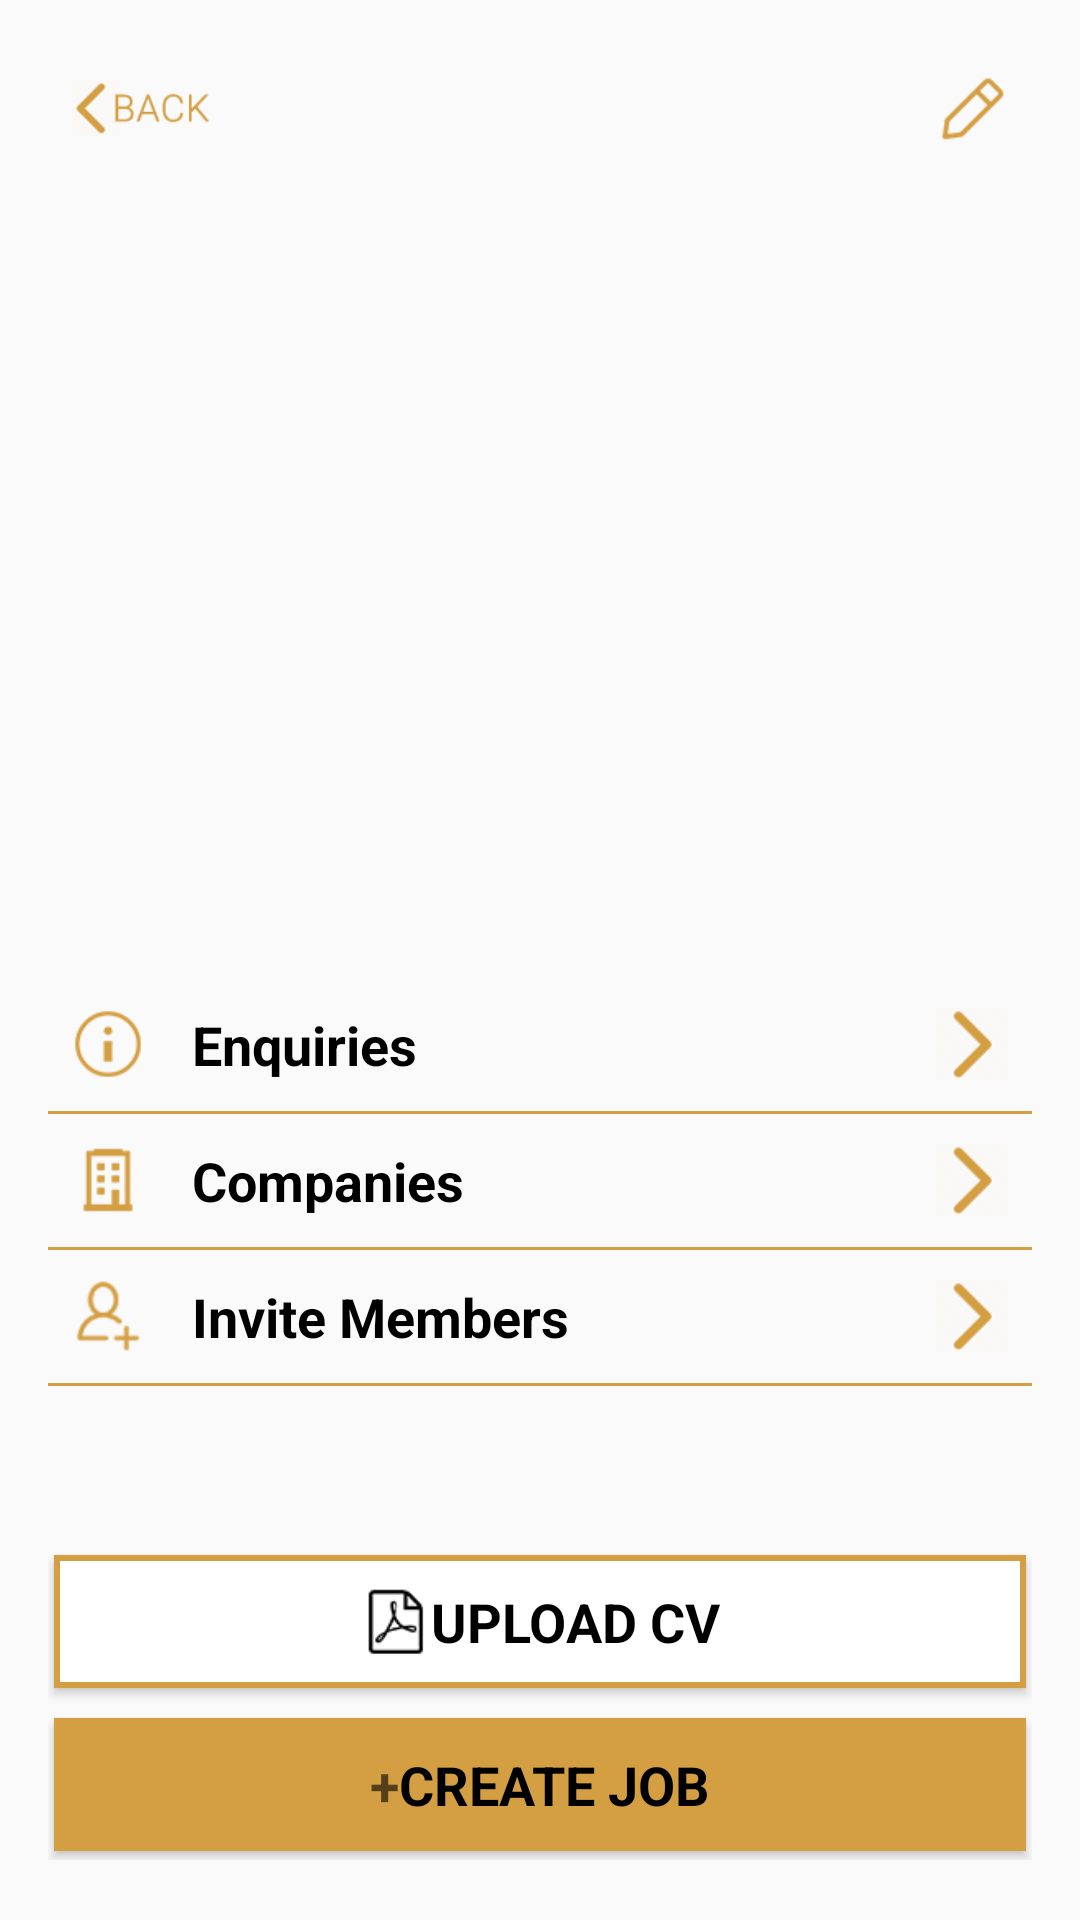

Locate icon controls on the screen. Image size 1080x1920, boxes as BBox(x1, y1, x2, y2).
company: BBox(83, 1148, 133, 1212)
edit: BBox(942, 78, 1004, 140)
info: BBox(75, 1011, 141, 1077)
right arrow: BBox(953, 1011, 992, 1078), BBox(953, 1147, 992, 1214), BBox(953, 1283, 992, 1350)
